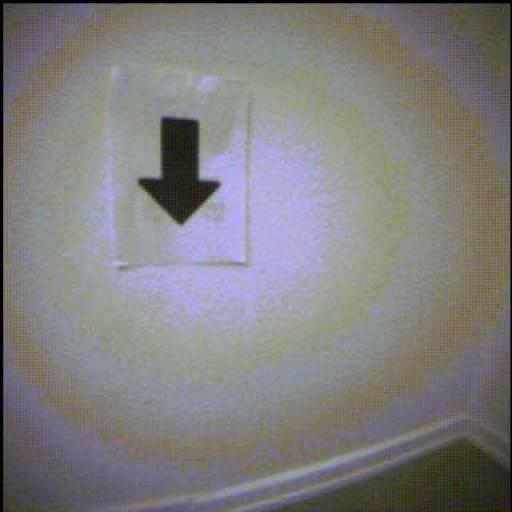arrow: (140, 118, 220, 225)
